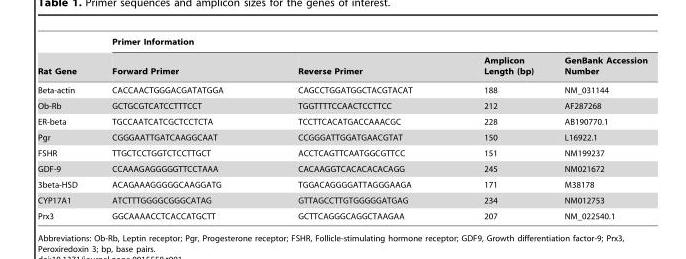table: (37, 37, 646, 220)
table column: (259, 37, 447, 220), (94, 37, 259, 220), (447, 37, 548, 220), (548, 37, 646, 220), (37, 37, 94, 220)
table column header: (37, 37, 646, 80)
table row: (37, 50, 646, 80), (37, 80, 646, 97), (37, 97, 646, 113), (37, 113, 646, 129), (37, 129, 646, 145), (37, 160, 646, 176), (37, 176, 646, 192), (37, 192, 646, 208), (37, 145, 646, 160), (37, 37, 646, 50), (37, 208, 646, 220)
table spanning cell: (94, 37, 646, 50), (37, 37, 94, 80)
